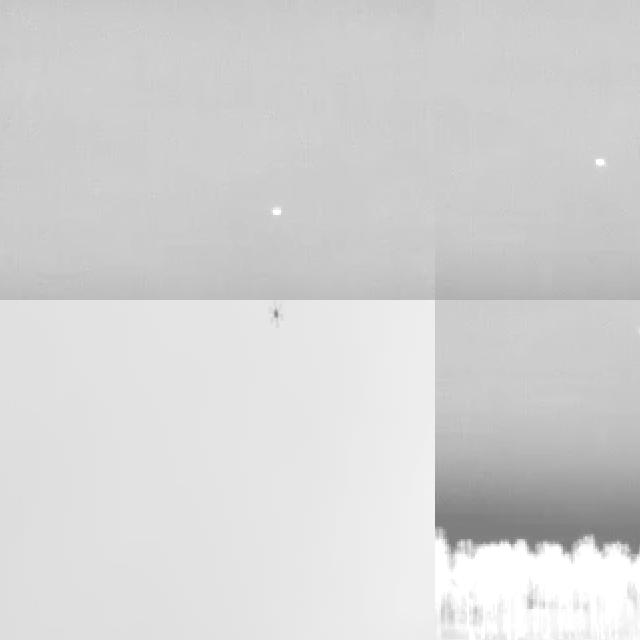1: (583, 152, 611, 180), (261, 200, 287, 225), (628, 321, 640, 346)
drone: (262, 300, 290, 331)
